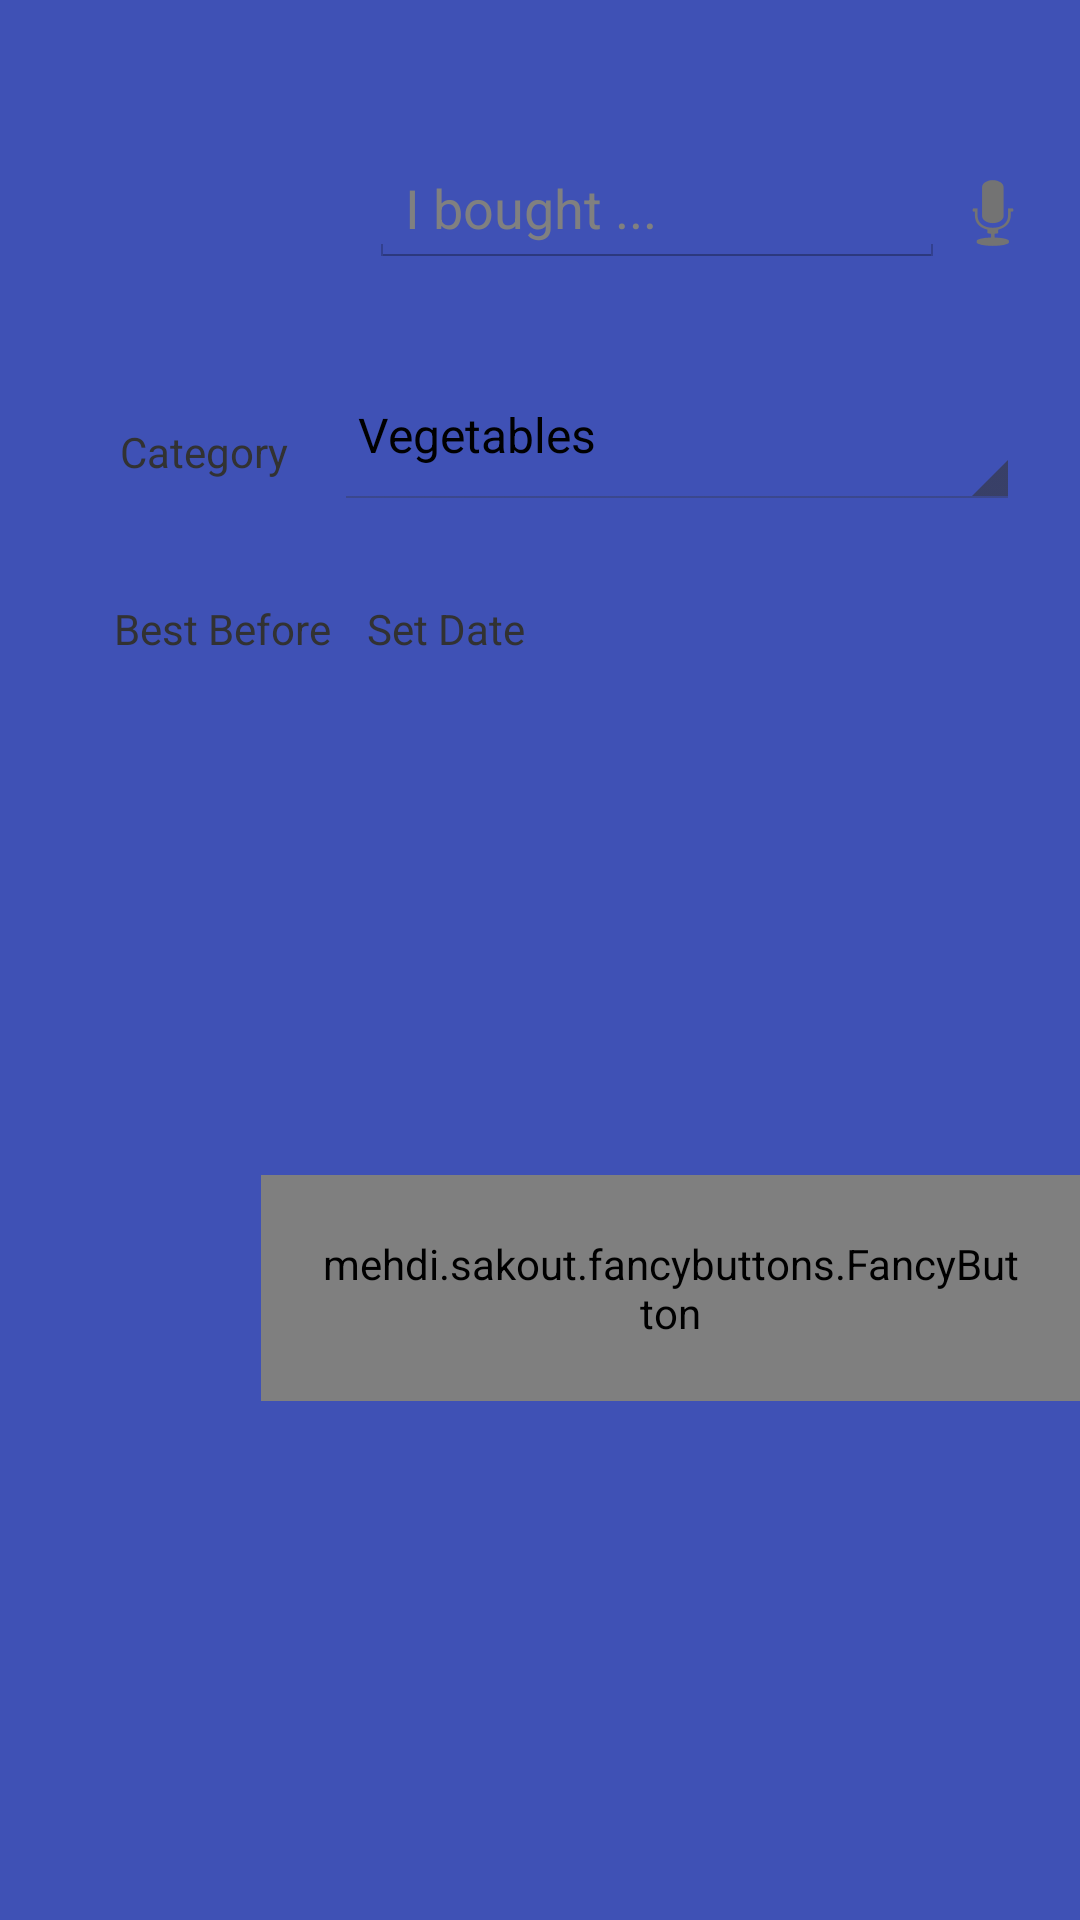

Icon bounding boxes for this 1080*1920 phone screenshot, format [x1,y1,x2,y2]:
speak now: [972,180,1013,246]
